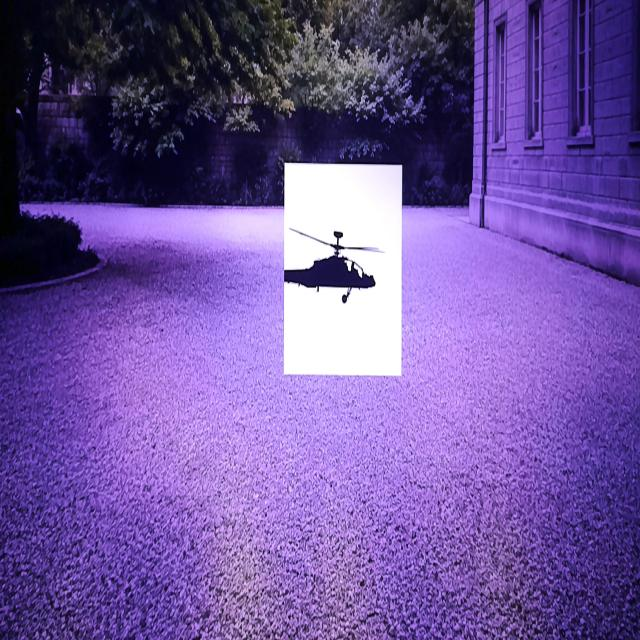Apache friendly: (285, 228, 383, 302)
